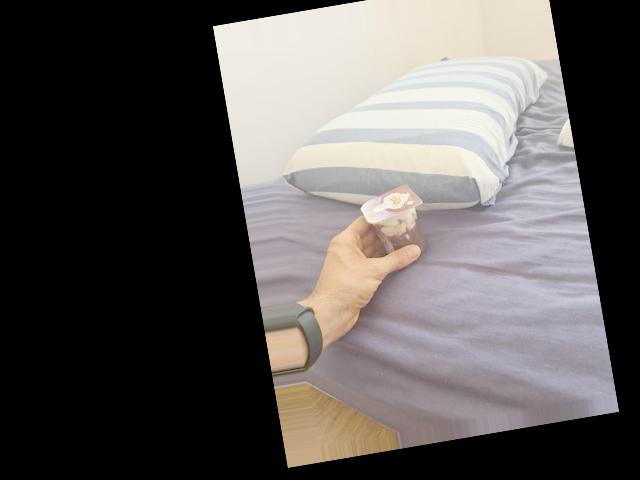milky: (361, 180, 429, 265)
